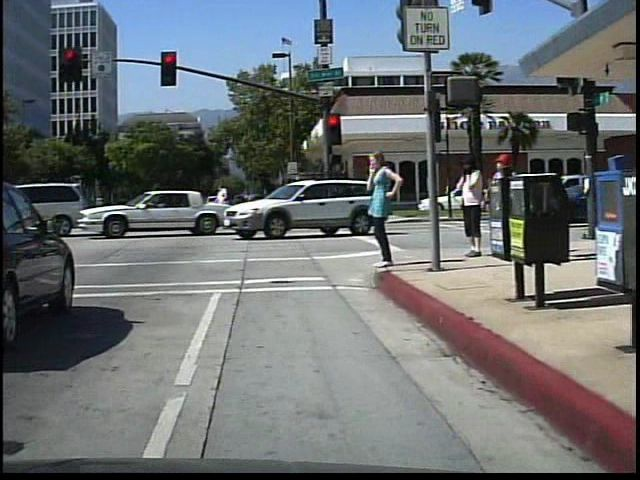person: (362, 147, 403, 275), (481, 146, 520, 258), (452, 148, 489, 259)
